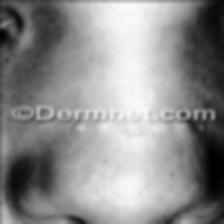Non-Cancerous Skin Condition: (60, 119, 200, 142)
